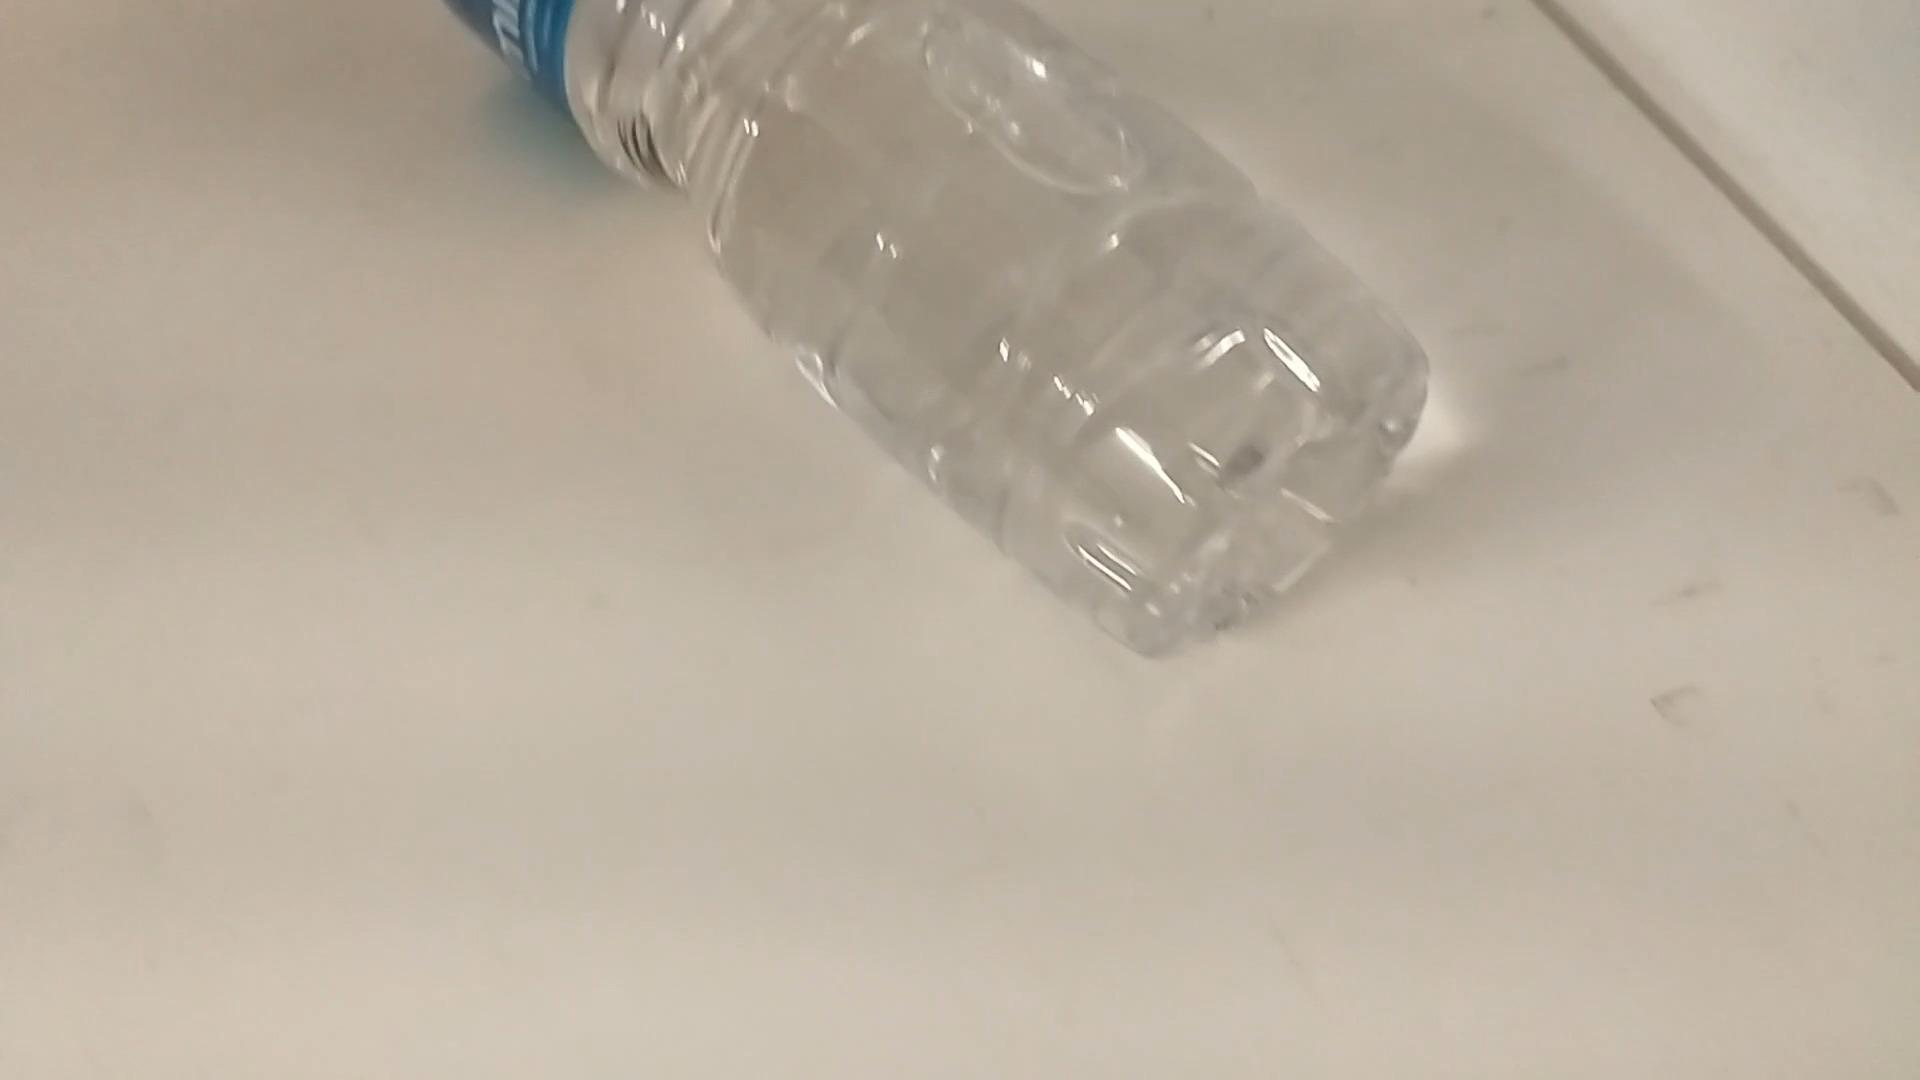agua: (440, 0, 1441, 658)
